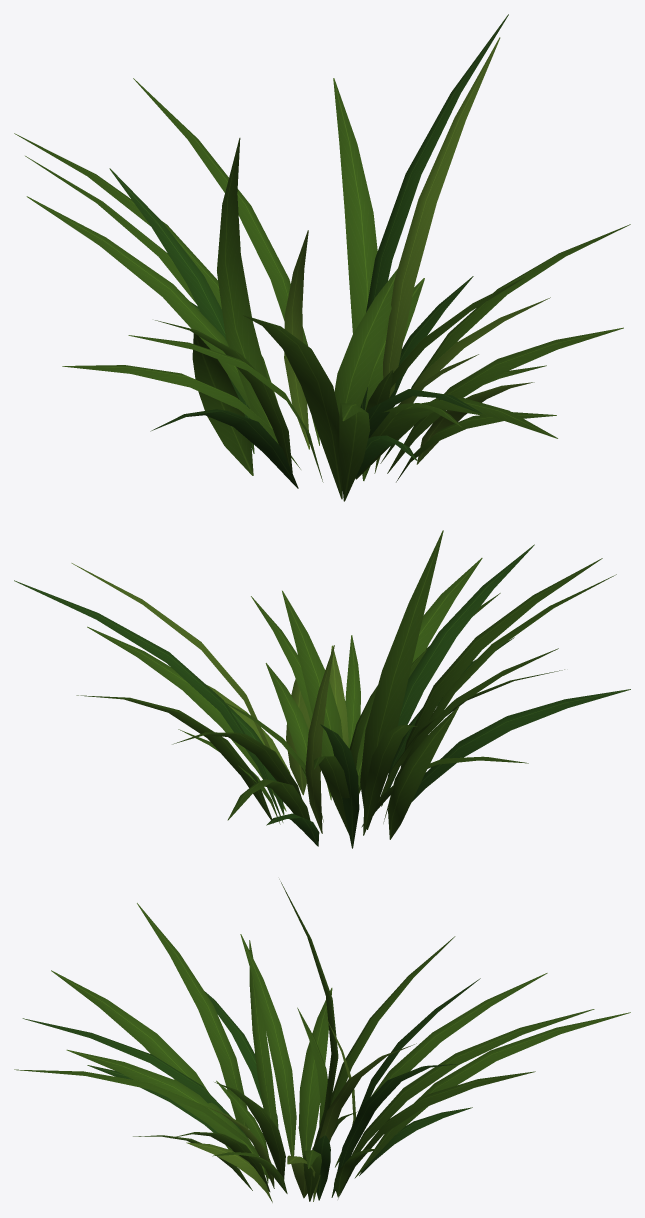
File: Common_grass_2.glb
3 views of the same model, one above another, from view 1: azimuth 30°, elevation 25°; view 2: azimuth 150°, elevation 25°; view 3: azimuth 270°, elevation 25° (orthographic). The views are drawn at different scales.
Visible parts, largest first — view 1: Common_grass_2_Leaves.004; view 2: Common_grass_2_Leaves.004; view 3: Common_grass_2_Leaves.004.
Part boxes in pixels (x1=…): Common_grass_2_Leaves.004: x1=14, y1=14, x2=630, y2=501; Common_grass_2_Leaves.004: x1=14, y1=530, x2=630, y2=848; Common_grass_2_Leaves.004: x1=14, y1=879, x2=630, y2=1202.
Bounding box in the file's own units: 1.13 × 0.6954 × 1.47.
1 material, 1 textured.
